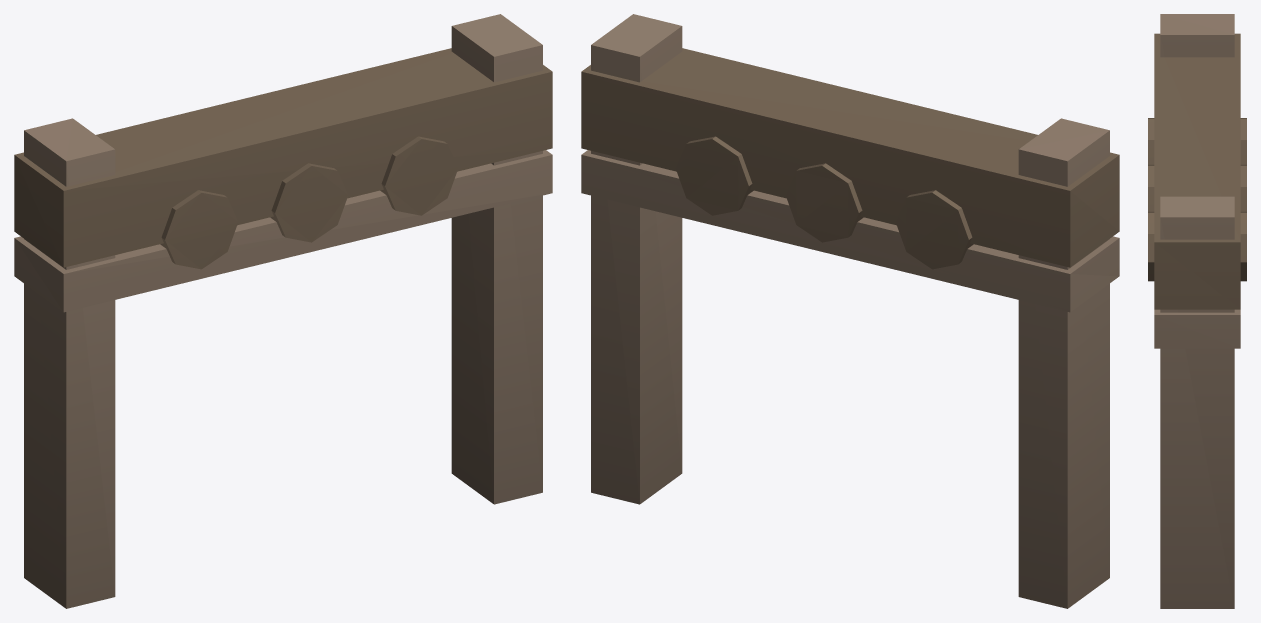
Rendered from stocks.glb.
3 views of the same model, side by side, from view 1: azimuth 30°, elevation 25°; view 2: azimuth 150°, elevation 25°; view 3: azimuth 270°, elevation 25° (orthographic). The views are drawn at different scales.
Parts seen in each view (by area): view 1: stocks; view 2: stocks; view 3: stocks.
Part boxes in pixels (x1,y1,x2,y2): stocks: (14,14,552,608); stocks: (581,14,1119,608); stocks: (1148,14,1246,608).
Bounding box in the file's own units: 0.8 × 0.7 × 0.16.
